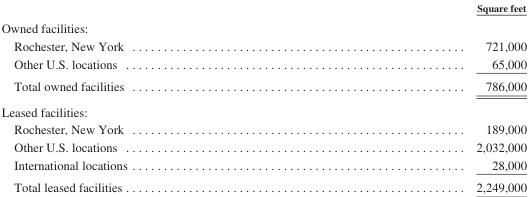table: (0, 1, 525, 194)
table column: (0, 1, 301, 194), (301, 1, 525, 194)
table column header: (0, 1, 525, 16)
table projected row header: (0, 98, 525, 120), (0, 16, 525, 36)
table row: (0, 74, 525, 98), (0, 98, 525, 120), (0, 16, 525, 36), (0, 54, 525, 74), (0, 155, 525, 175), (0, 175, 525, 194), (0, 36, 525, 54), (0, 137, 525, 155), (0, 120, 525, 137), (0, 1, 525, 16)
